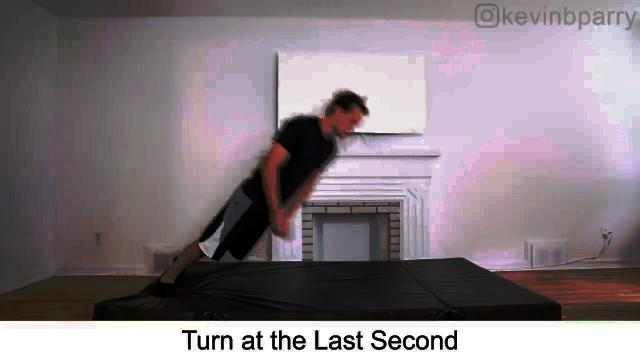jatuh: (146, 82, 377, 300)
